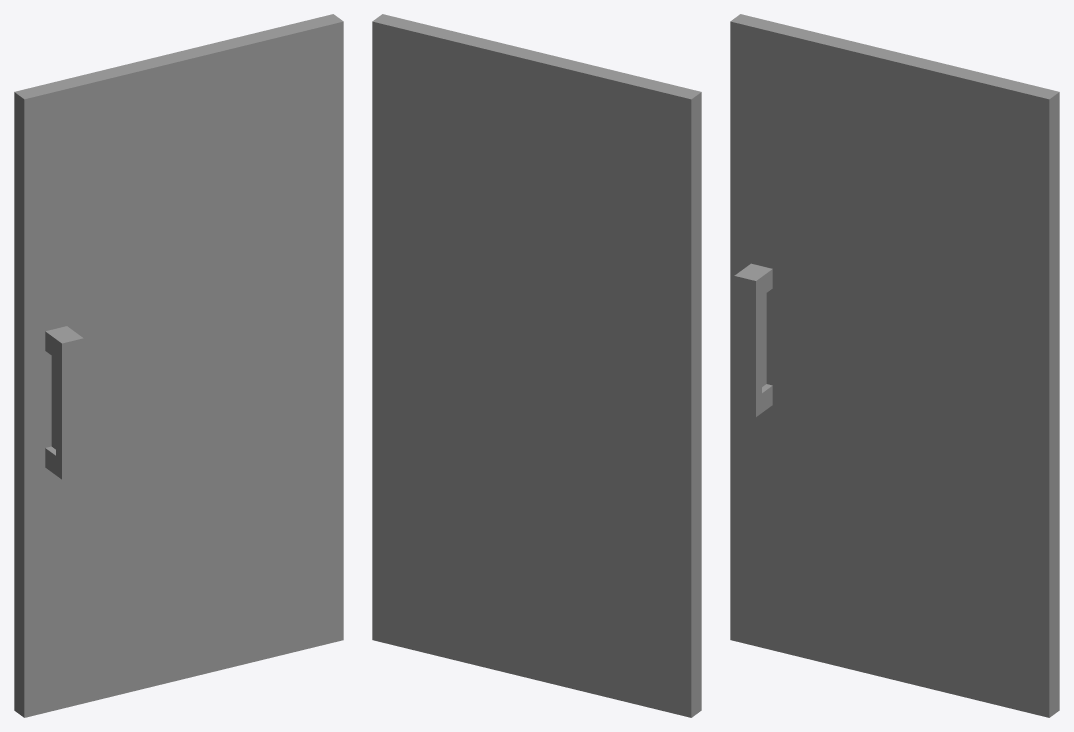
The model's file is Itr_Shelf1_Door_Right_02.FBX.
3 views of the same model, side by side, from view 1: azimuth 30°, elevation 25°; view 2: azimuth 150°, elevation 25°; view 3: azimuth 330°, elevation 25° (orthographic).
Visible parts, largest first — view 1: Itr_Shelf1_Door_Right_02; view 2: Itr_Shelf1_Door_Right_02; view 3: Itr_Shelf1_Door_Right_02.
Boxes of the visible parts, x1=… form: Itr_Shelf1_Door_Right_02: x1=14, y1=14, x2=343, y2=717; Itr_Shelf1_Door_Right_02: x1=372, y1=14, x2=701, y2=717; Itr_Shelf1_Door_Right_02: x1=730, y1=14, x2=1059, y2=717.
Size of the model in its own units: 22.1 by 40.92 by 3.23.
